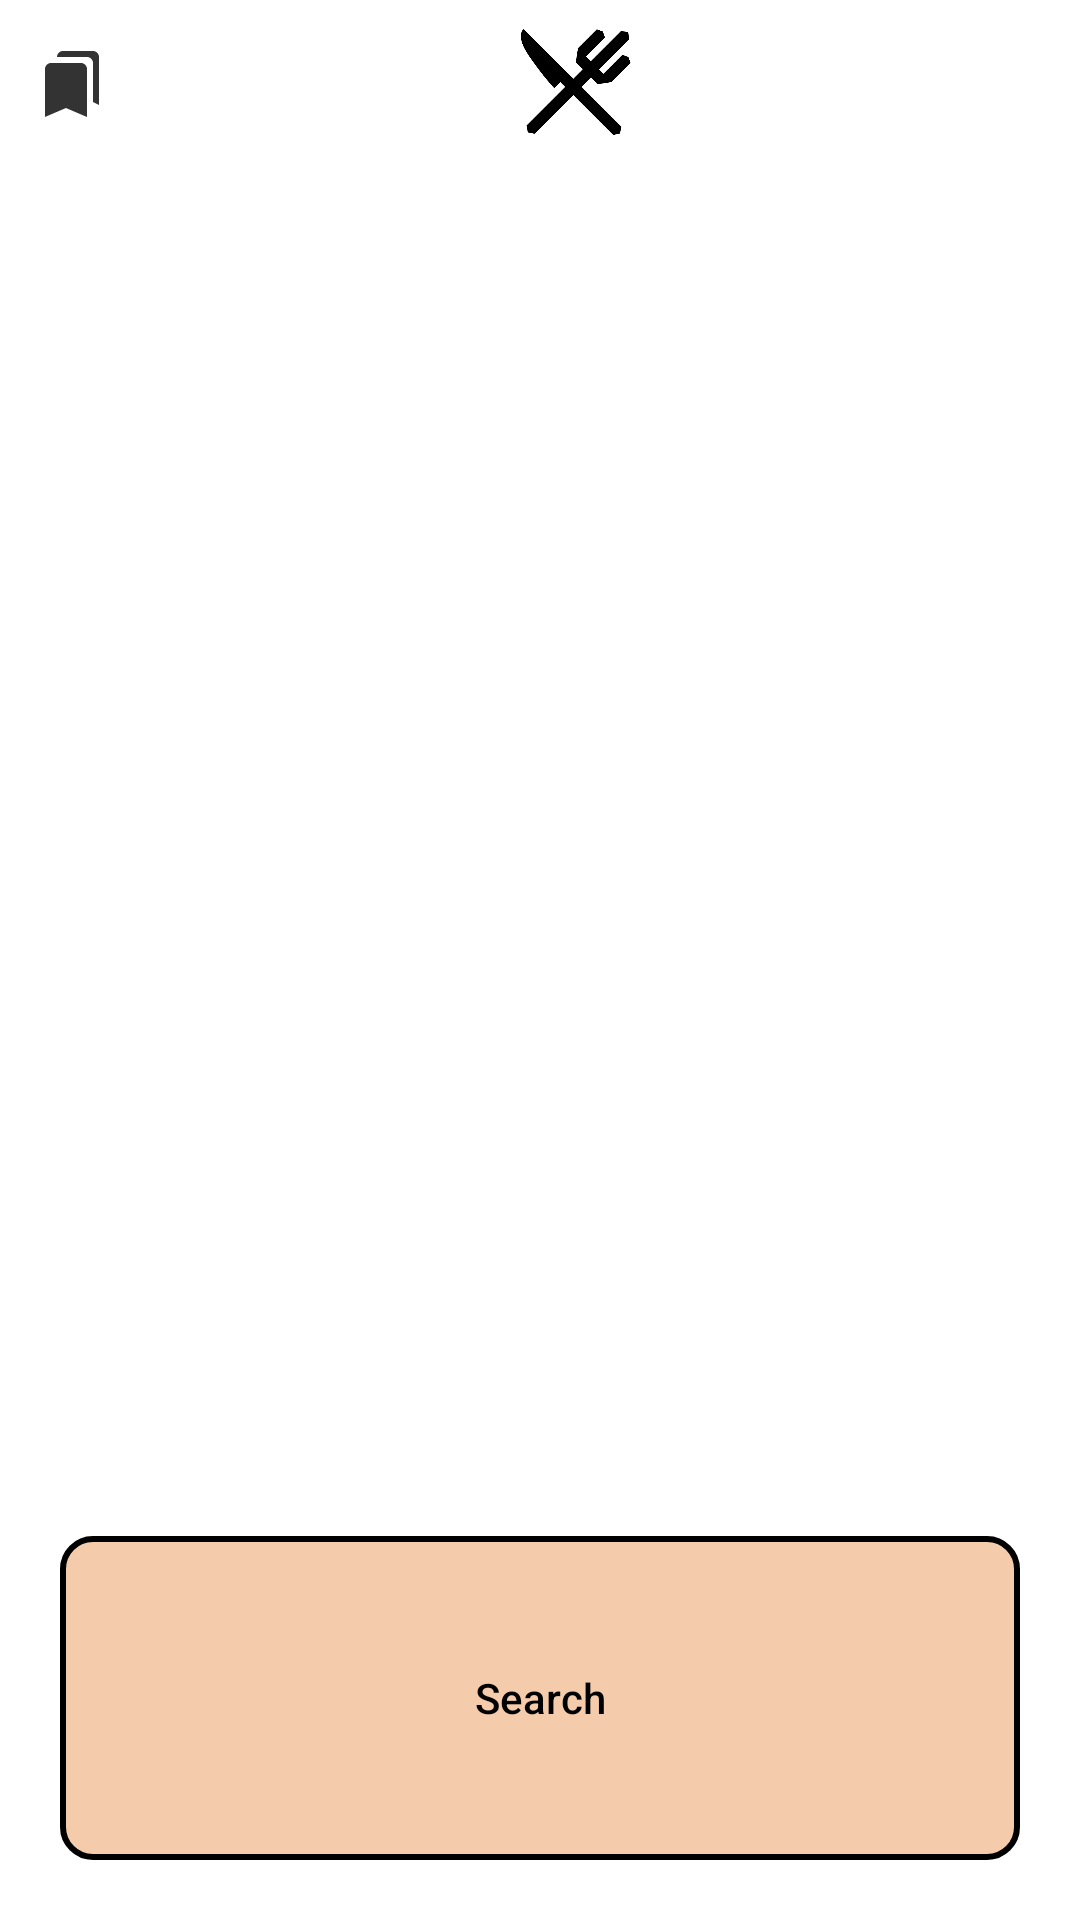

Icon bounding boxes for this 1080 x 1920 phone screenshot, format (x1, y1, x2, y2):
bookmark: (45, 51, 99, 117)
